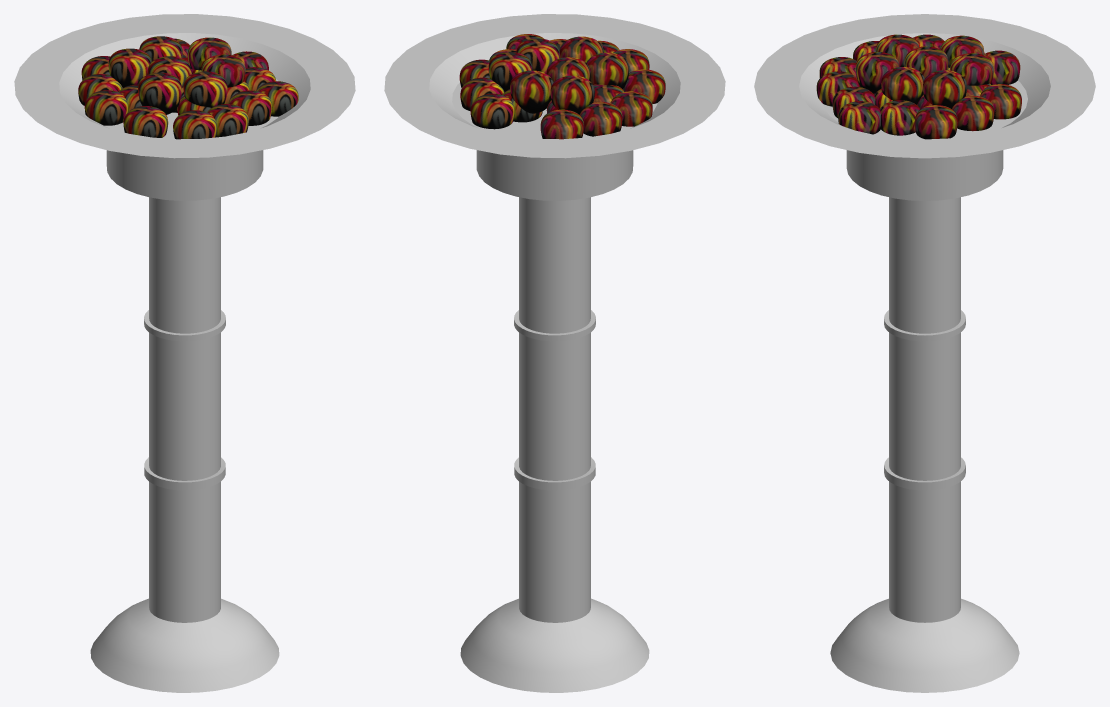
File: torch_big.fbx
3 renders of one model, left to right at view 1: azimuth 30°, elevation 25°; view 2: azimuth 150°, elevation 25°; view 3: azimuth 270°, elevation 25°, orthographic.
Parts seen in each view (by area): view 1: Cylinder; view 2: Cylinder; view 3: Cylinder.
Boxes of the visible parts, box(x1,y1,x2,y2) form: Cylinder: box(14, 14, 355, 692); Cylinder: box(384, 14, 725, 692); Cylinder: box(754, 14, 1095, 692).
Size of the model in its own units: 56.65 by 109 by 56.65.
